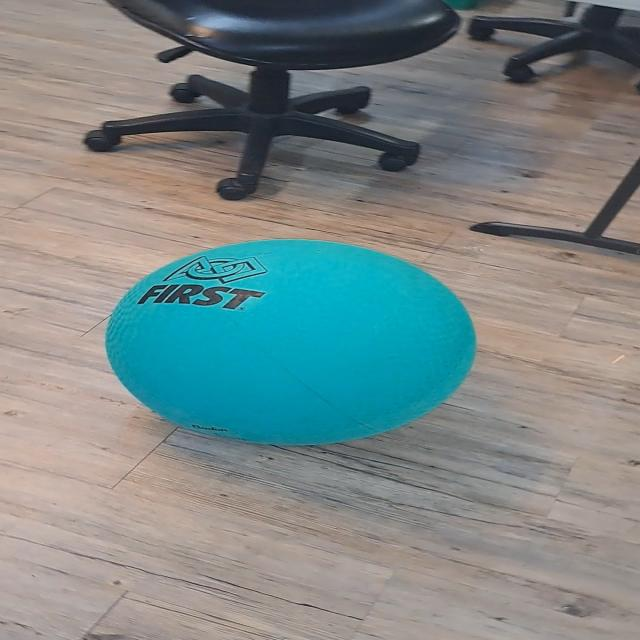ALGAE: (102, 237, 478, 447)
